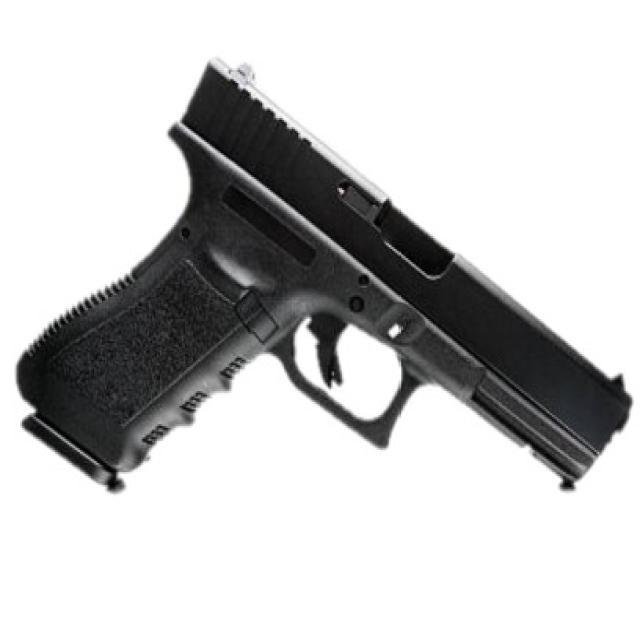pistol: (10, 51, 639, 513)
